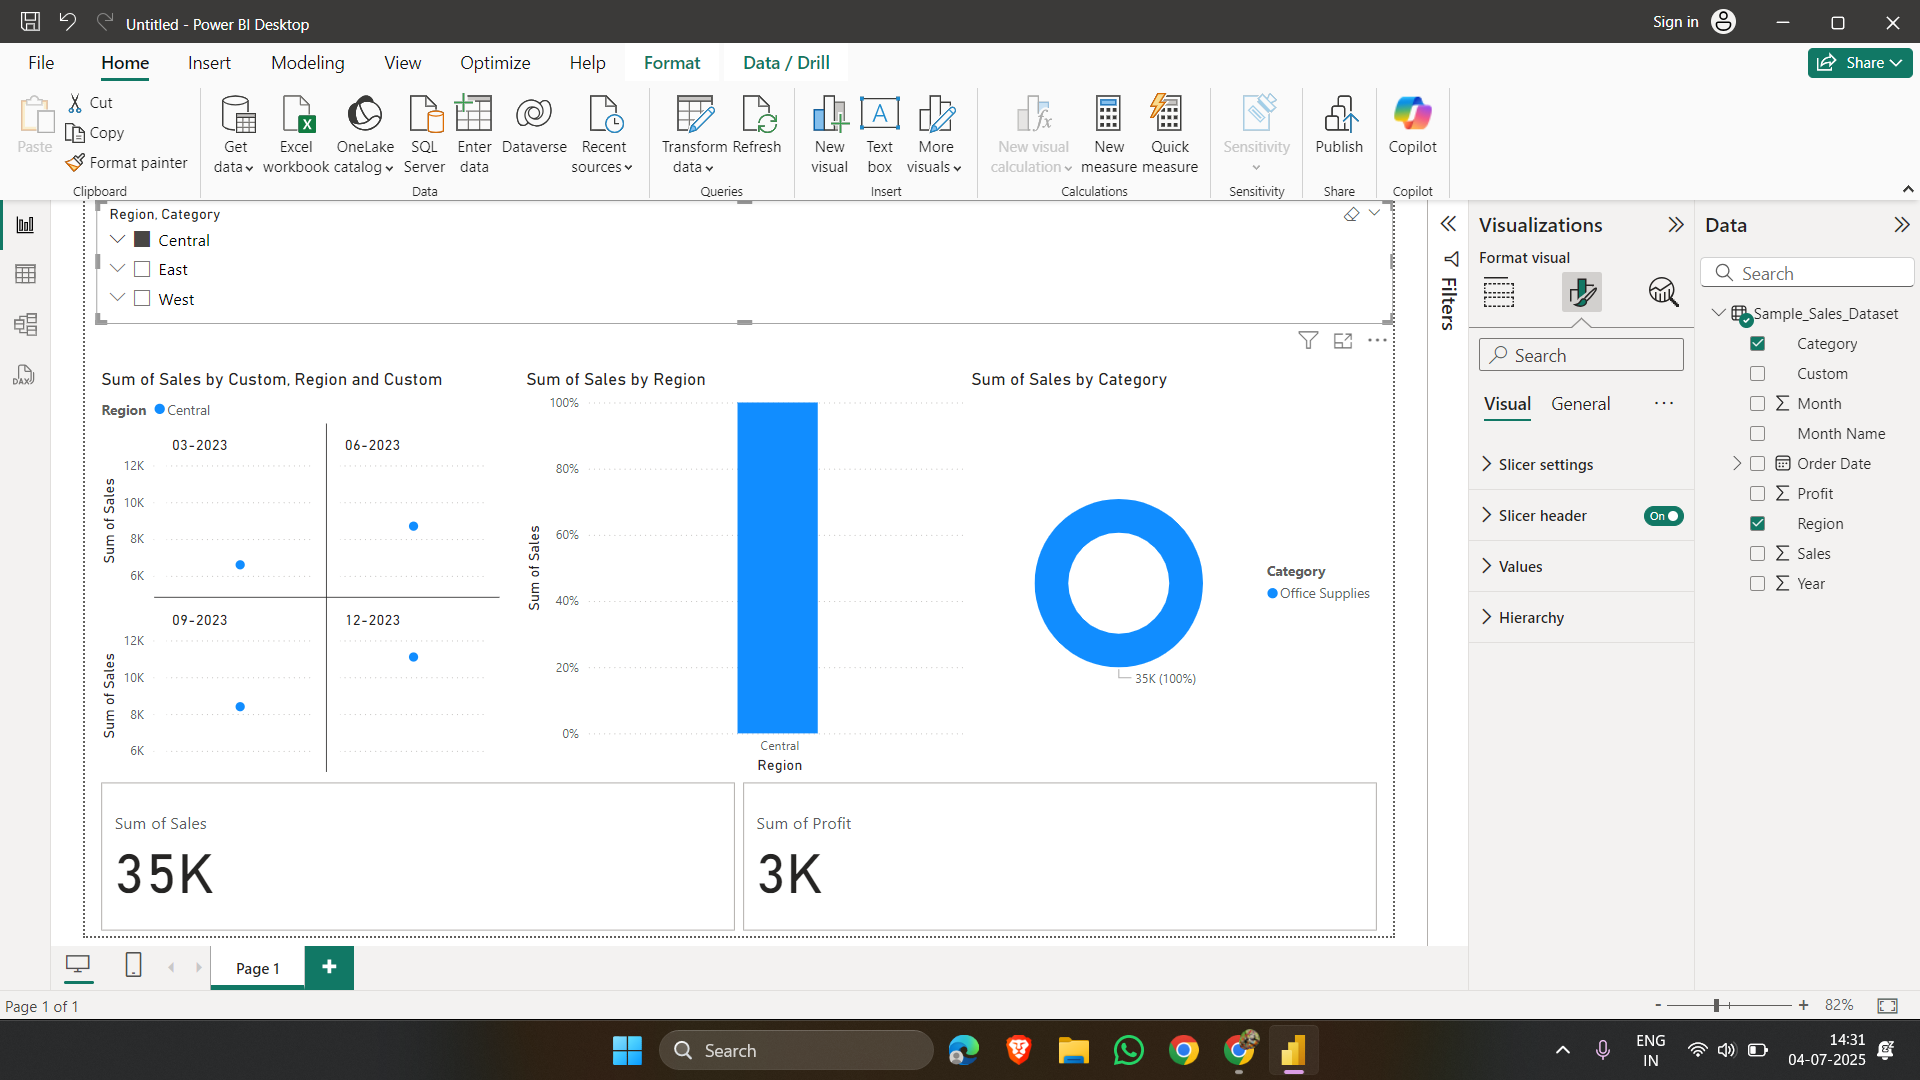

What the dashboard file says about the page in this screenshot:
{"tool":"powerbi","page":{"name":"Sales Dashboard Design","canvas":[1280,720],"ordinal":0},"visuals":[{"type":"lineChart","fields":{"Y":["Sum(Sample_Sales_Dataset.Sales)"],"Category":["Sample_Sales_Dataset.Custom"],"Series":["Sample_Sales_Dataset.Region"],"Rows":["Sample_Sales_Dataset.Custom"]},"box":[11,164.7,400.7,400.7],"z":0},{"type":"hundredPercentStackedColumnChart","fields":{"Category":["Sample_Sales_Dataset.Region"],"Y":["Sum(Sample_Sales_Dataset.Sales)"]},"box":[426.8,164.7,444.6,400.7],"z":3},{"type":"donutChart","fields":{"Y":["Sum(Sample_Sales_Dataset.Sales)"],"Category":["Sample_Sales_Dataset.Category"]},"box":[861.8,164.7,408.9,400.7],"z":4},{"type":"cardVisual","fields":{"Data":["Sum(Sample_Sales_Dataset.Sales)","Sum(Sample_Sales_Dataset.Profit)"]},"box":[11,565.4,1259.7,155.1],"z":5},{"type":"slicer","fields":{"Values":["Sample_Sales_Dataset.Region"]},"box":[11,0,1269.3,120.8],"z":6}]}

Visuals, with their boxes on the page's 1280x720 design canvas (x1, y1, x2, y2). These are canvas units, not pixel positions in the 1920x1080 screenshot, which may show the page scaled, cropped or inside an application window:
lineChart - Sum(Sample_Sales_Dataset.Sales) x Sample_Sales_Dataset.Custom: {"left": 11, "top": 165, "right": 412, "bottom": 565}
hundredPercentStackedColumnChart - Sample_Sales_Dataset.Region x Sum(Sample_Sales_Dataset.Sales): {"left": 427, "top": 165, "right": 871, "bottom": 565}
donutChart - Sum(Sample_Sales_Dataset.Sales) x Sample_Sales_Dataset.Category: {"left": 862, "top": 165, "right": 1271, "bottom": 565}
cardVisual - Sum(Sample_Sales_Dataset.Sales) x Sum(Sample_Sales_Dataset.Profit): {"left": 11, "top": 565, "right": 1271, "bottom": 720}
slicer - Sample_Sales_Dataset.Region: {"left": 11, "top": 0, "right": 1280, "bottom": 121}
